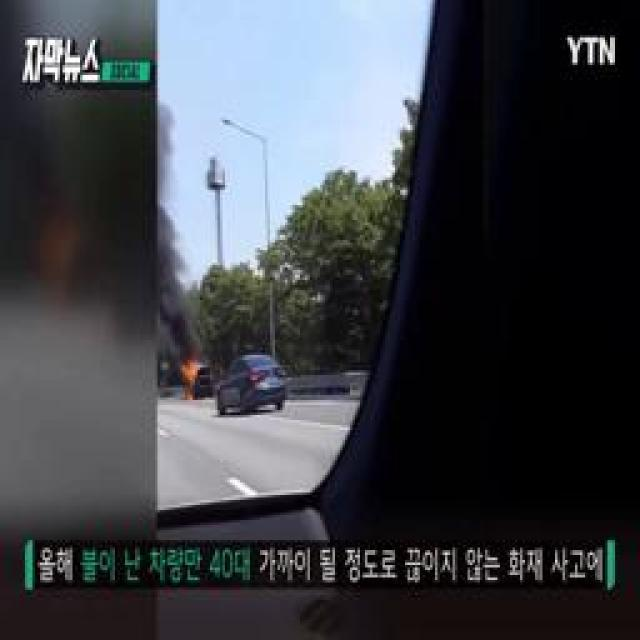Fire: (182, 360, 204, 396)
